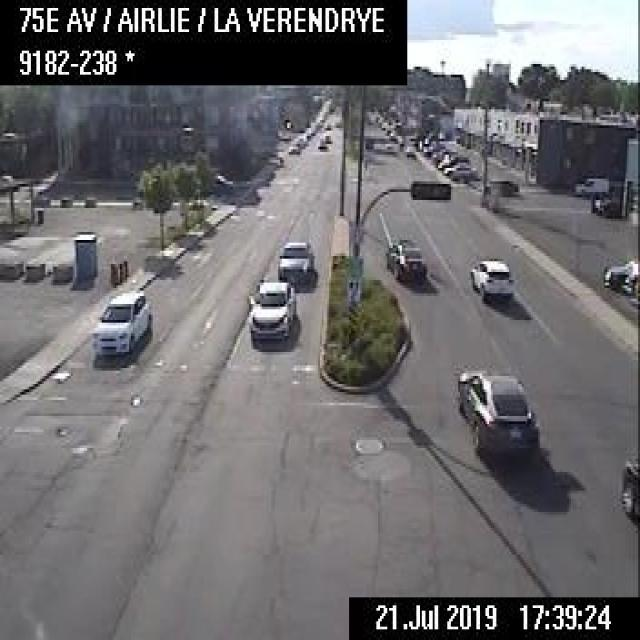construction: (108, 258, 116, 283), (116, 260, 123, 281), (122, 255, 128, 276)
vehicle: (453, 363, 540, 469), (89, 286, 153, 360), (243, 277, 296, 347), (469, 253, 513, 307), (386, 232, 424, 285), (275, 237, 312, 281), (618, 459, 638, 517), (603, 254, 636, 286), (573, 172, 609, 196), (442, 158, 475, 176), (436, 151, 467, 167), (285, 140, 300, 155), (404, 146, 416, 160), (316, 136, 328, 150), (322, 130, 332, 143)
